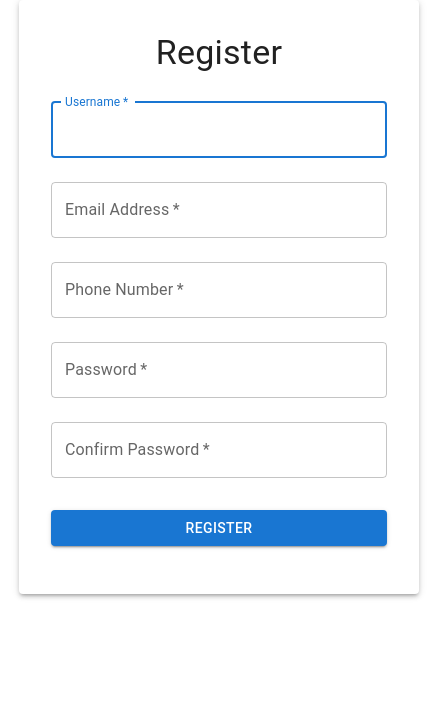
RegisterForm › shows validation errors for empty fields
This screenshot has width=439, height=720.
Click the button "Register".
click(219, 528)  # box 51,510 -> 387,546
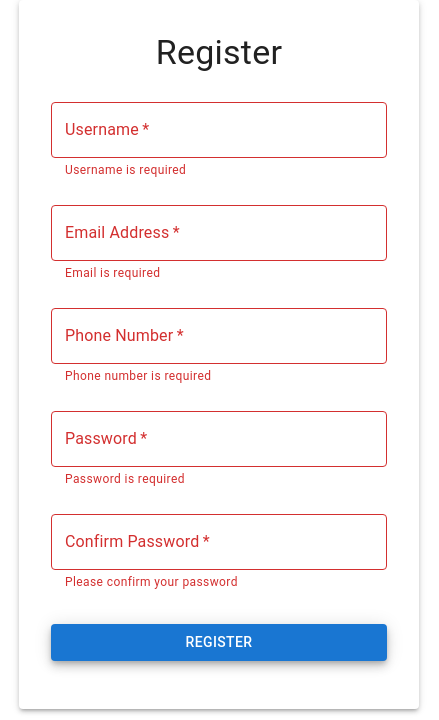
Result: the text "Username is required" is shown at 65,163 -> 186,177
Result: the text "Email is required" is shown at 65,266 -> 160,280
Result: the text "Phone number is required" is shown at 65,369 -> 211,383
